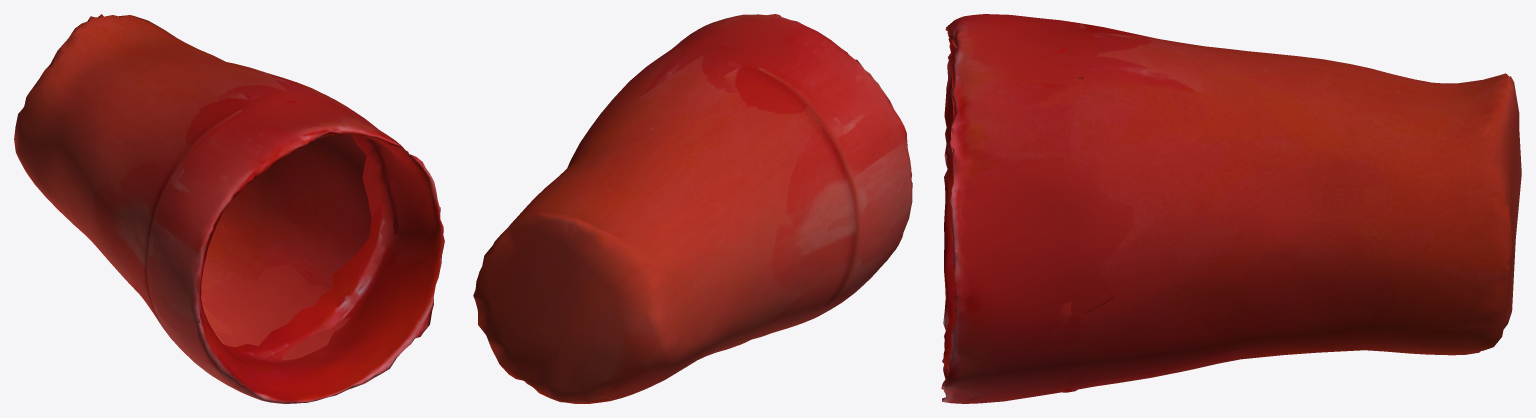
File: red_cup.obj
The picture shows the model from 3 angles, left to right: view 1: azimuth 30°, elevation 25°; view 2: azimuth 150°, elevation 25°; view 3: azimuth 270°, elevation 25°; orthographic projection. The views are drawn at different scales.
Visible parts, largest first — view 1: mmGroup0, mmGroup4; view 2: mmGroup0, mmGroup4; view 3: mmGroup0, mmGroup12, mmGroup4.
Boxes of the visible parts, x1,y1,x2,y2 form: mmGroup0: (14, 14, 444, 403); mmGroup4: (249, 94, 331, 126); mmGroup0: (473, 14, 912, 403); mmGroup4: (698, 23, 786, 62); mmGroup0: (941, 14, 1521, 403); mmGroup12: (974, 181, 1102, 315); mmGroup4: (987, 22, 1081, 71).
Size of the model in its own units: 0.0714 by 0.0728 by 0.1085.
2 materials, 2 textured.
